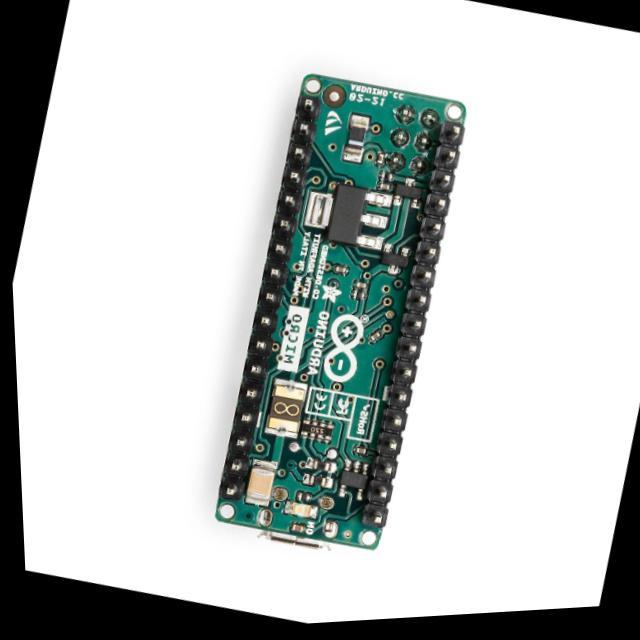Arduino-Micro: (216, 74, 467, 550)
